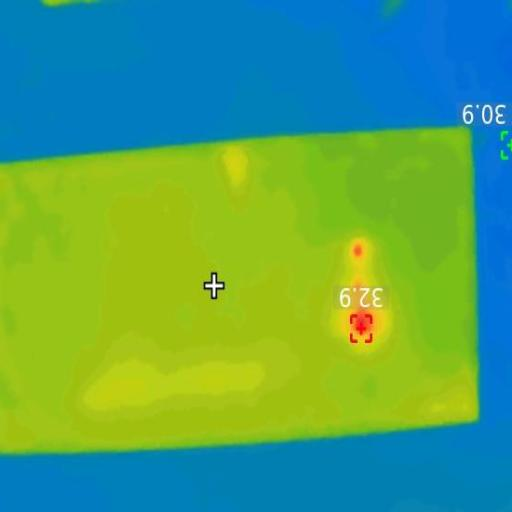hotspot: (356, 310, 368, 344), (353, 238, 367, 264)
